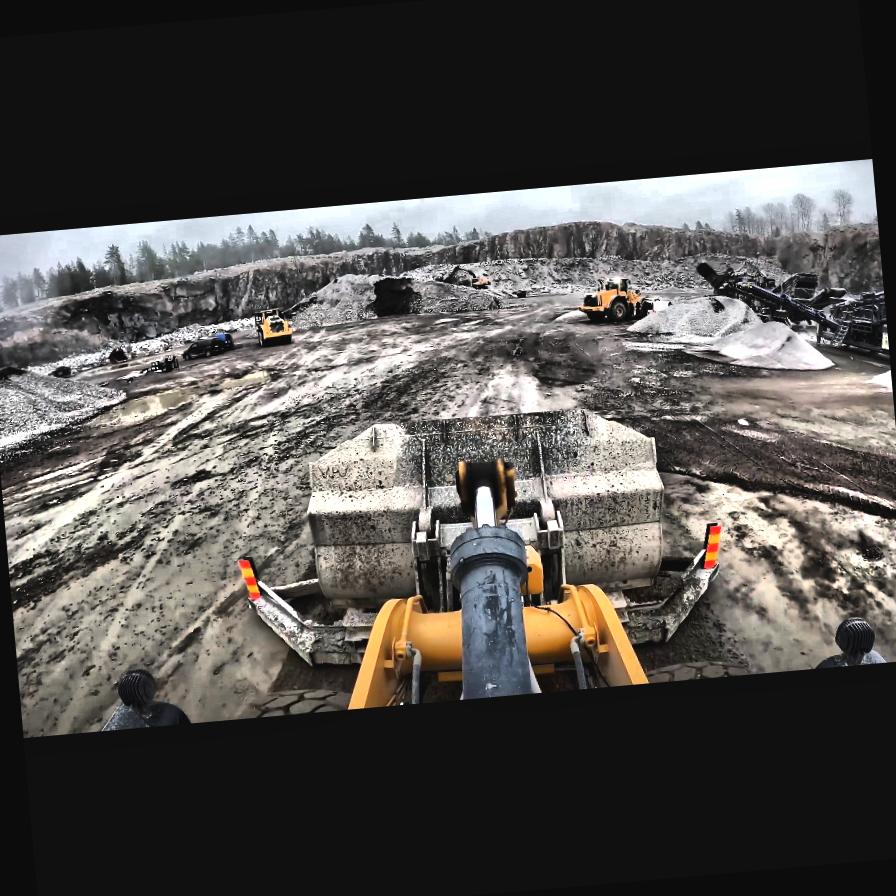anchor: (457, 454, 519, 526)
pile of gravel: (0, 355, 137, 466), (685, 313, 834, 382), (637, 292, 746, 346), (391, 265, 494, 317), (297, 270, 388, 326), (866, 340, 894, 404)
